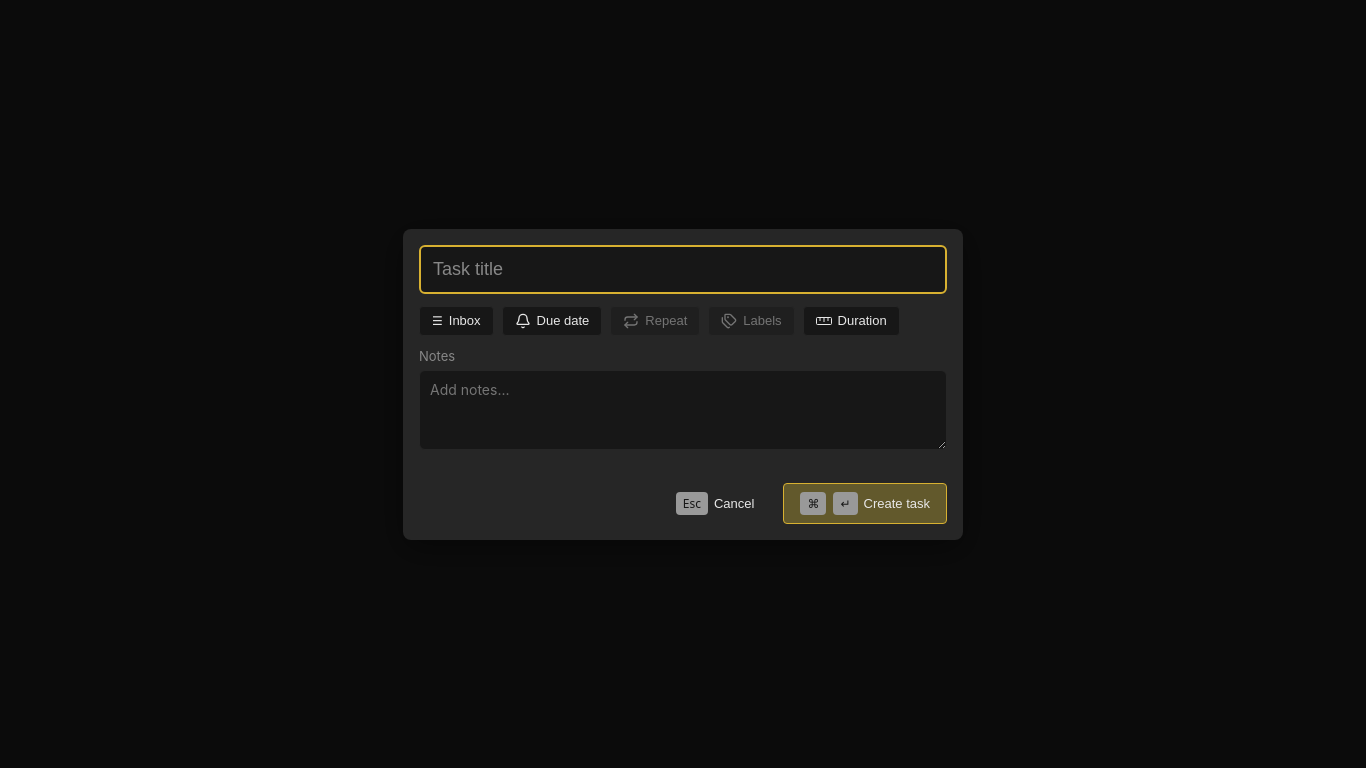
QuickAddModal › opens duration dropdown
This screenshot has width=1366, height=768.
Click the button "Duration" at (851, 320), box left=803, top=306, right=900, bottom=336
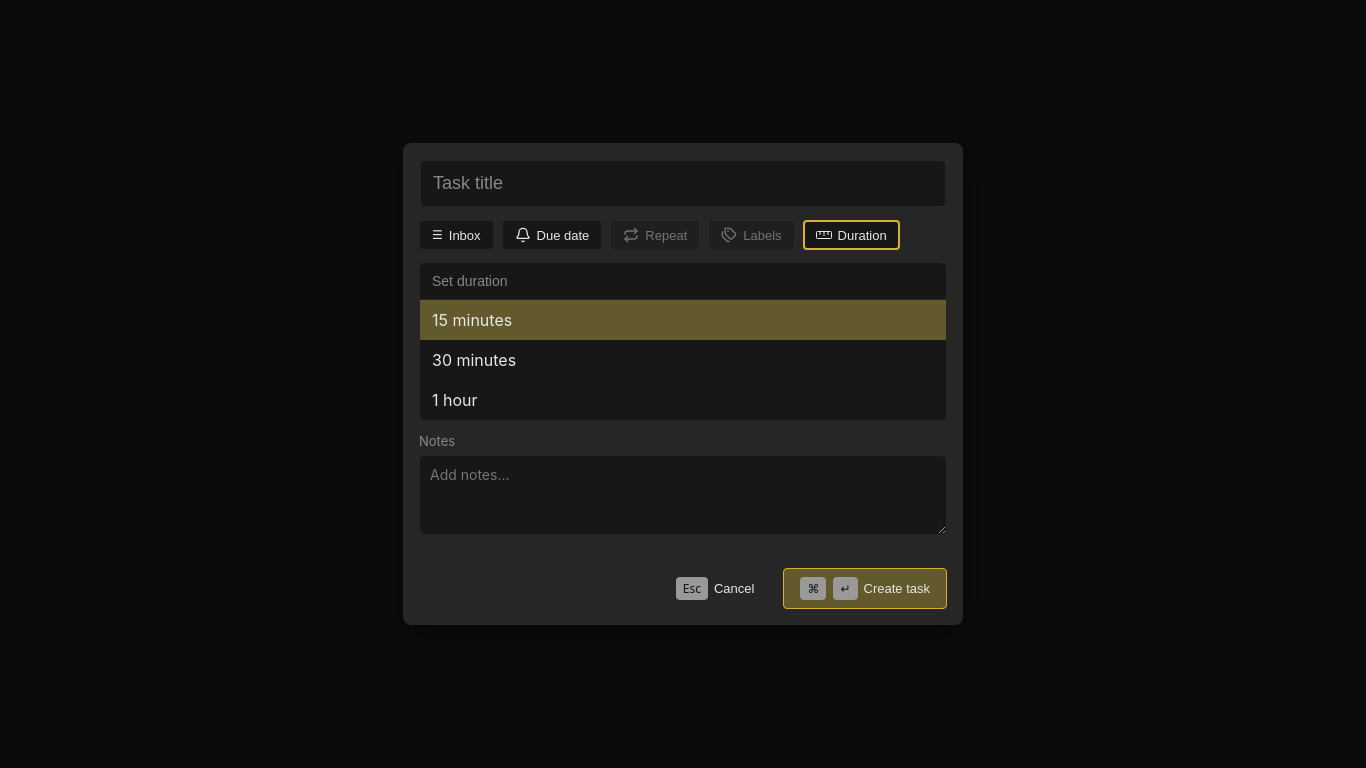
Expected: the element showing "15 minutes 30 minutes 1 hour" is shown, left=419, top=262, right=947, bottom=421
Expected: the text "15 minutes" is shown, left=420, top=300, right=946, bottom=340
